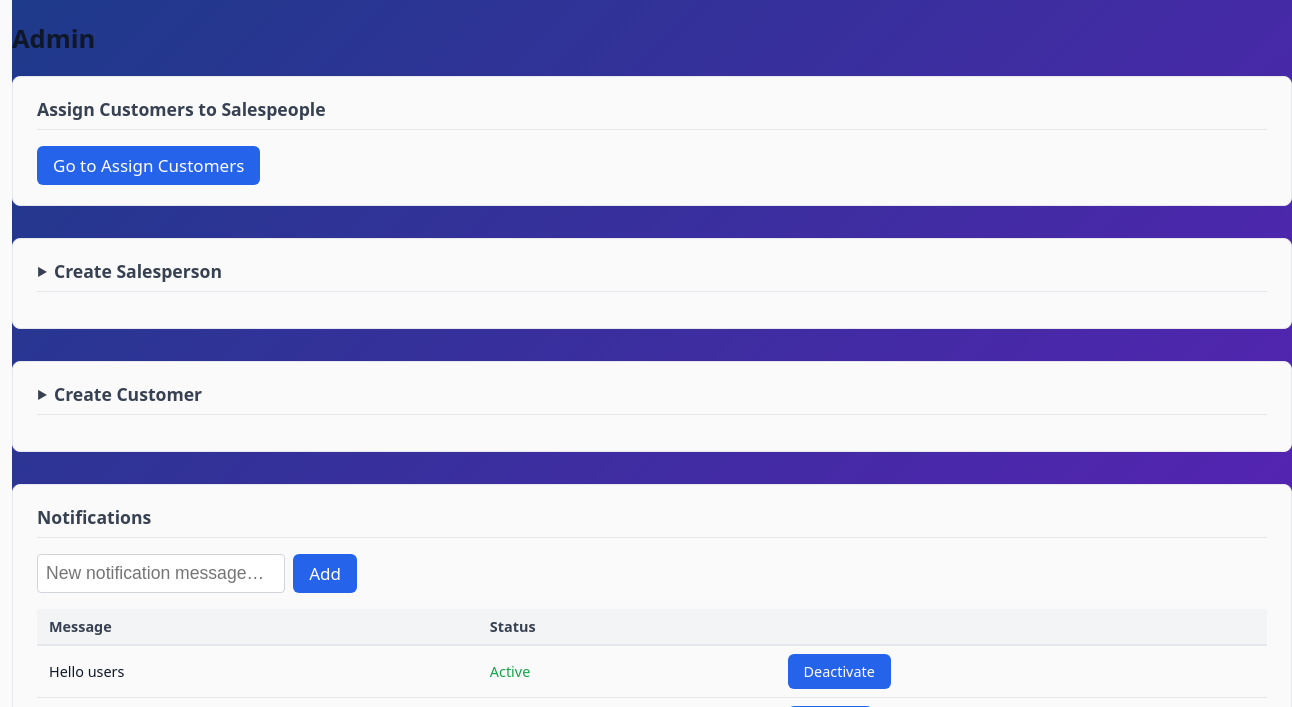
AdminPage › admin role › toggles a notification and flips isActive in the list
The width and height of the screenshot is (1292, 707).
expect the text "Active" is shown: met, box x1=490 y1=662 x2=530 y2=681
Click the button with class "toggle-btn" showing "Deactivate".
click(839, 672)  # box x1=788 y1=654 x2=891 y2=689
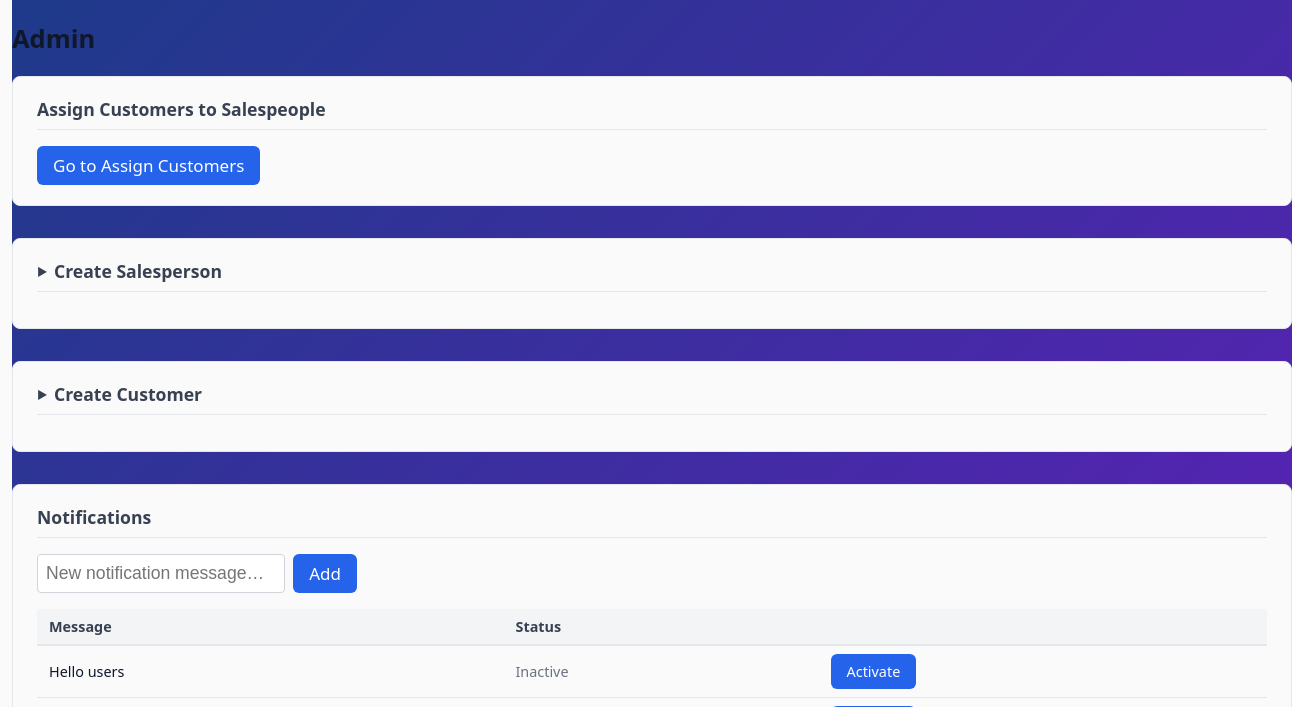
expect the text with class "notif-inactive" in the row of "Hello users" is shown: met, box x1=516 y1=662 x2=569 y2=681
